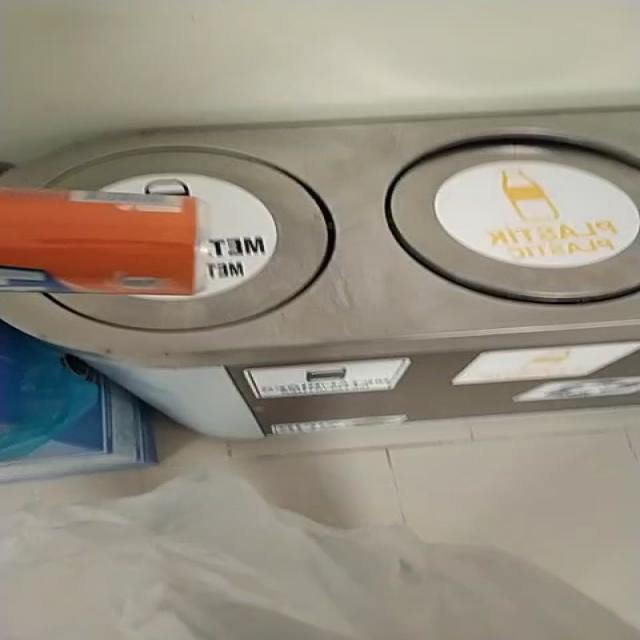bin: (3, 109, 640, 440), (7, 111, 640, 360)
